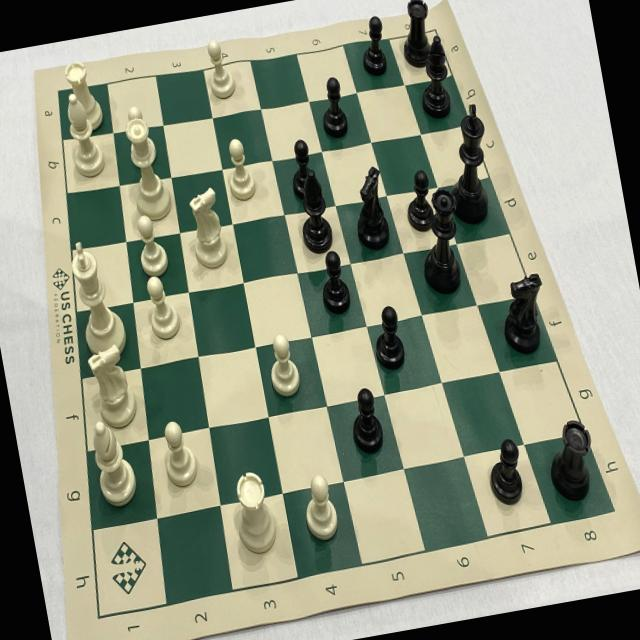black-bishop: (411, 33, 456, 121), (292, 165, 337, 252)
black-knight: (436, 99, 502, 225), (494, 267, 554, 361), (343, 164, 396, 256)
black-pawn: (482, 432, 528, 510), (342, 382, 388, 458), (311, 248, 355, 320), (367, 302, 409, 374), (284, 134, 322, 204), (399, 166, 437, 235), (314, 74, 352, 142), (354, 13, 392, 80)
black-queen: (416, 186, 466, 296)
black-rook: (542, 412, 604, 508), (393, 0, 439, 72)
white-bishop: (84, 414, 141, 510), (58, 87, 109, 182)
white-king: (64, 234, 131, 366)
white-knight: (182, 184, 233, 272)
white-pawn: (296, 470, 344, 545), (140, 270, 185, 344), (262, 322, 303, 400), (130, 210, 172, 280), (220, 134, 260, 203), (160, 419, 200, 488), (200, 36, 238, 102), (121, 100, 158, 166)
white-queen: (116, 114, 177, 225)
white-rook: (227, 465, 283, 558), (63, 56, 106, 136)
